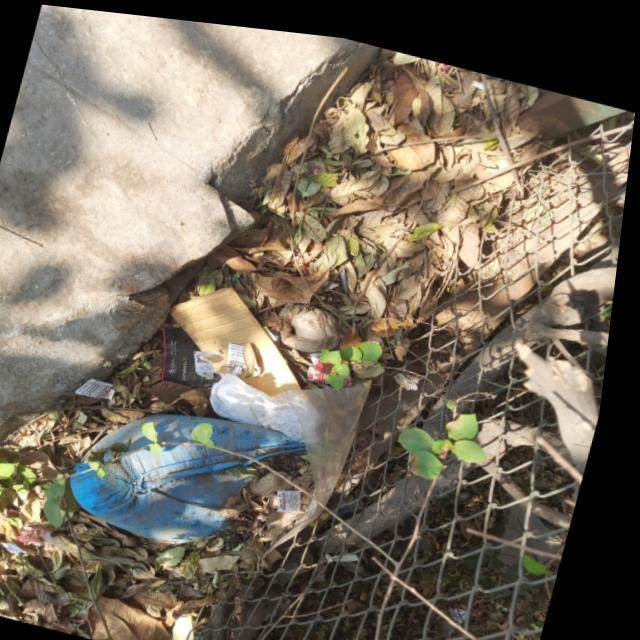Background: (0, 4, 379, 445)
Cig_bud: (473, 69, 485, 79)
Garbage: (0, 40, 547, 640)
Plastic_Bag: (82, 409, 315, 537), (284, 374, 379, 541), (219, 367, 315, 434), (345, 258, 356, 285)
Plastic_wraper: (315, 344, 341, 375), (202, 346, 226, 373), (288, 482, 314, 505), (235, 352, 254, 367), (351, 366, 362, 379), (349, 351, 357, 356)
